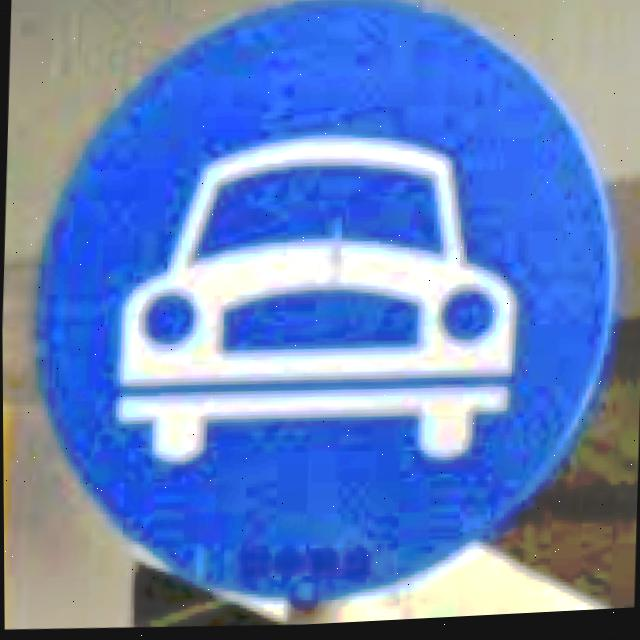car: (16, 0, 630, 635)
